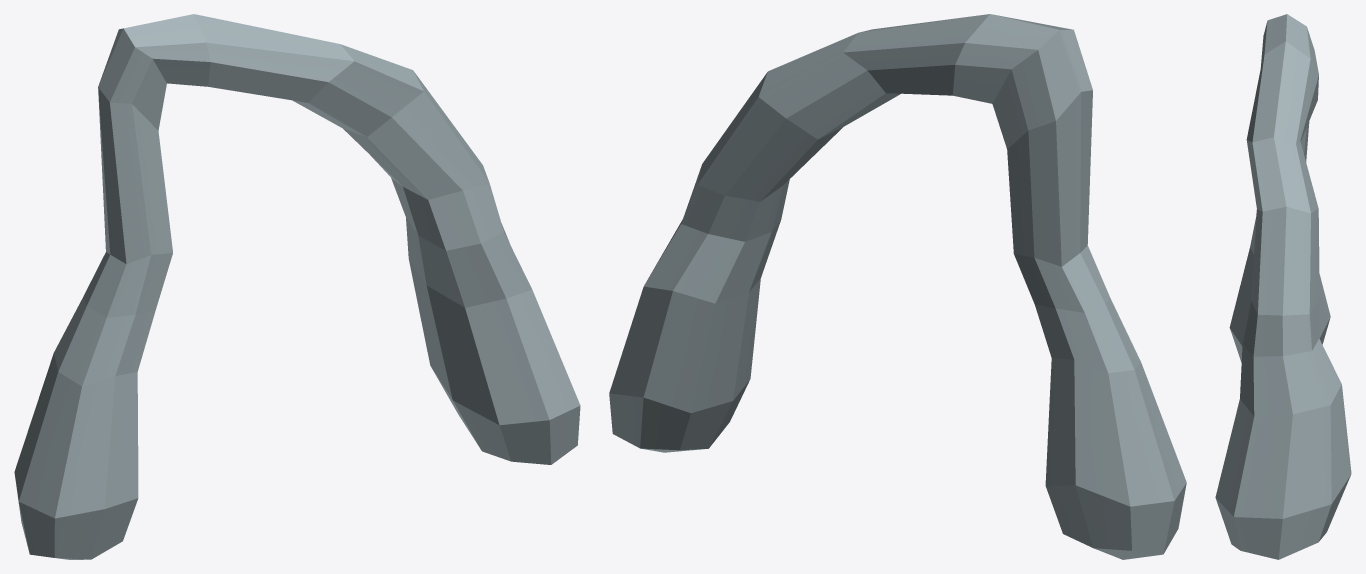
File: arc.fbx
3 renders of one model, left to right at view 1: azimuth 30°, elevation 25°; view 2: azimuth 150°, elevation 25°; view 3: azimuth 270°, elevation 25°, orthographic. The views are drawn at different scales.
Parts seen in each view (by area): view 1: Cube; view 2: Cube; view 3: Cube.
Boxes of the visible parts, left/top/right/bottom form: Cube: left=14, top=14, right=580, bottom=559; Cube: left=609, top=14, right=1186, bottom=559; Cube: left=1215, top=14, right=1351, bottom=559.
Size of the model in its own units: 1190 by 1081 by 336.
Materials: 1 (1 with a texture image).
